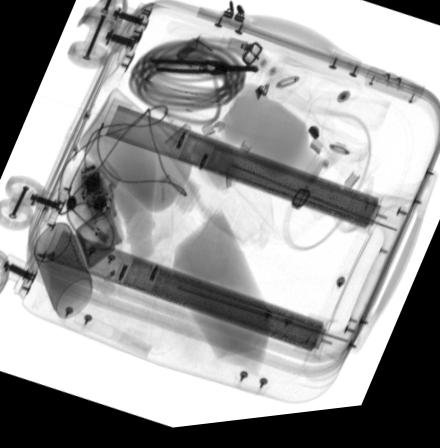Pliers: (148, 59, 260, 83)
